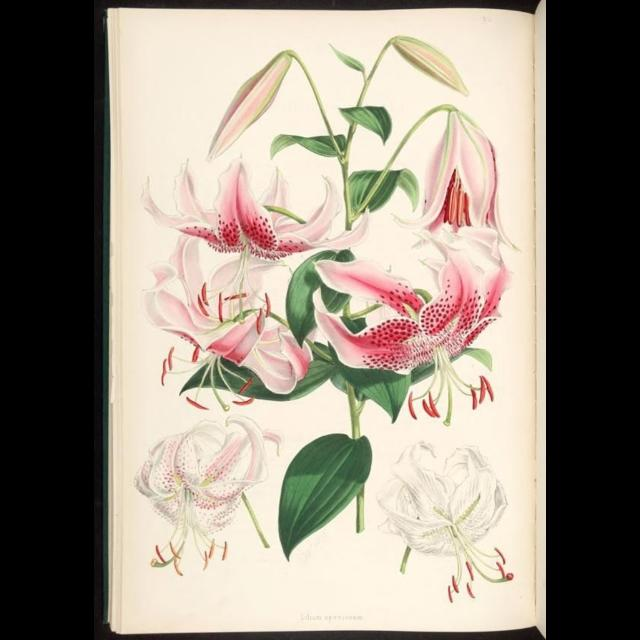Flower: (312, 226, 516, 426), (137, 252, 310, 411), (130, 416, 284, 570), (379, 441, 516, 601), (150, 154, 320, 270), (396, 111, 520, 251)
